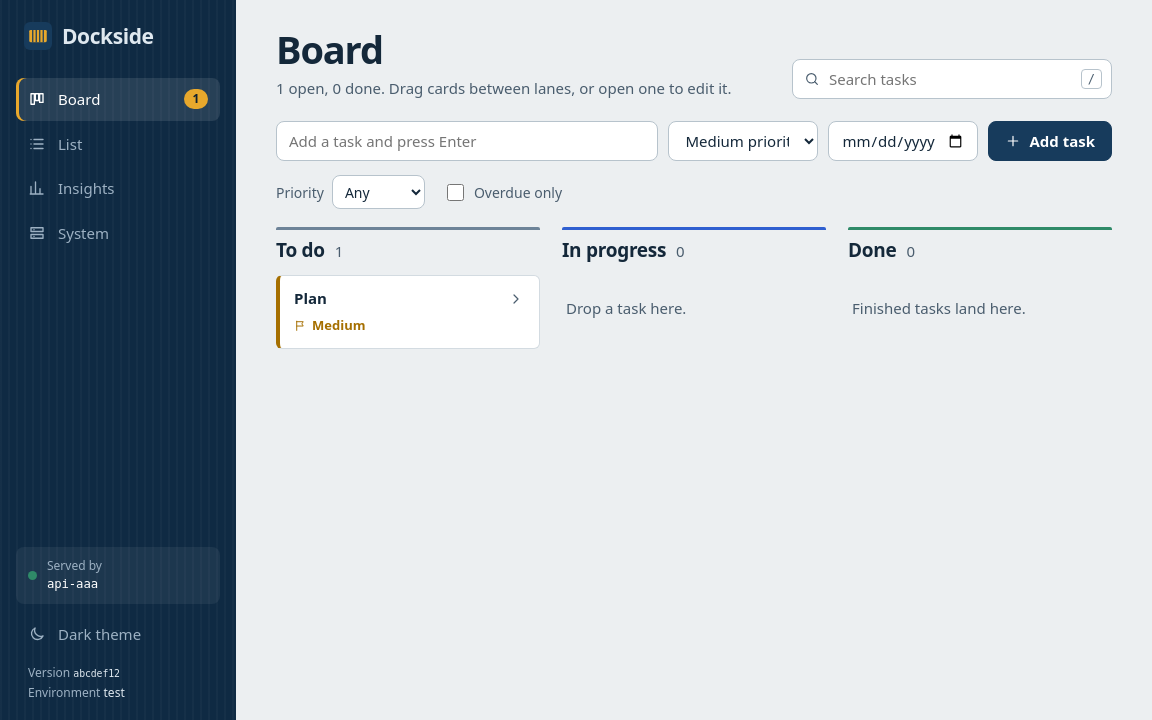
Test: board › shows who answered, and updates it when another pod answers
The width and height of the screenshot is (1152, 720).
Expected: the text "api-aaa" is shown, top-left (47, 575), bottom-right (102, 594)
Type "Another" into the field named "New task title" at (467, 141), box top-left (276, 121), bottom-right (658, 161)
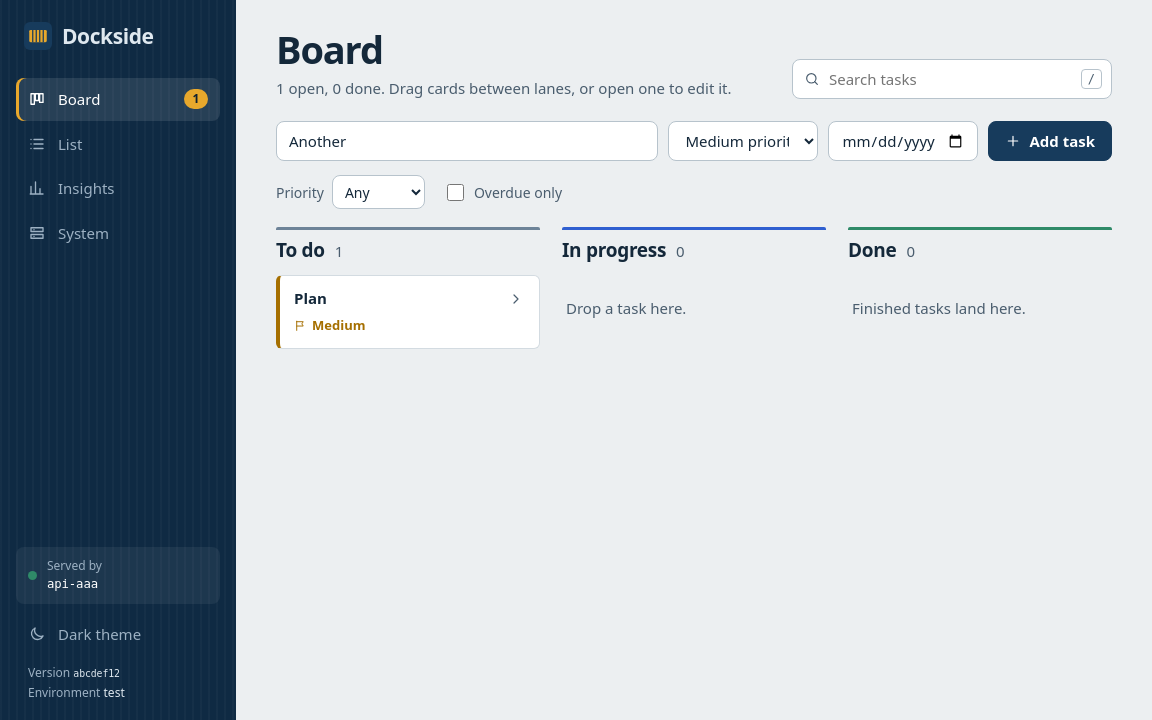
Click the button "Add task" at (1050, 141), box top-left (988, 121), bottom-right (1112, 161)
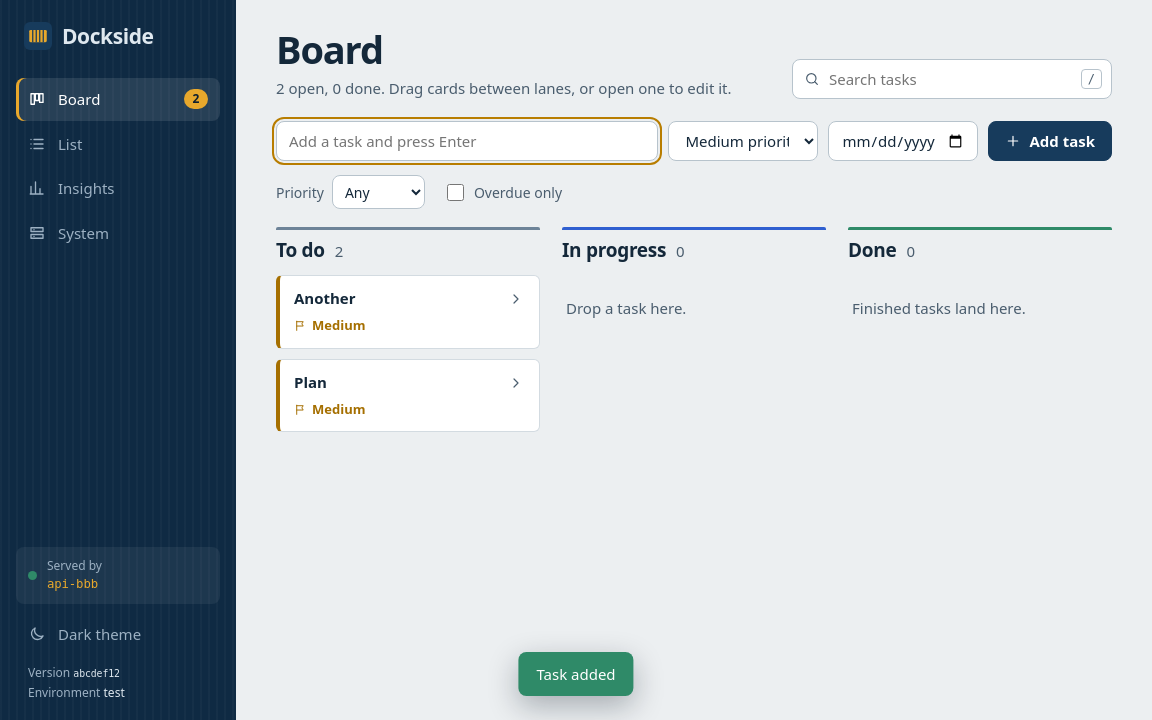
Expected: the text "api-bbb" is shown, top-left (47, 575), bottom-right (102, 594)
